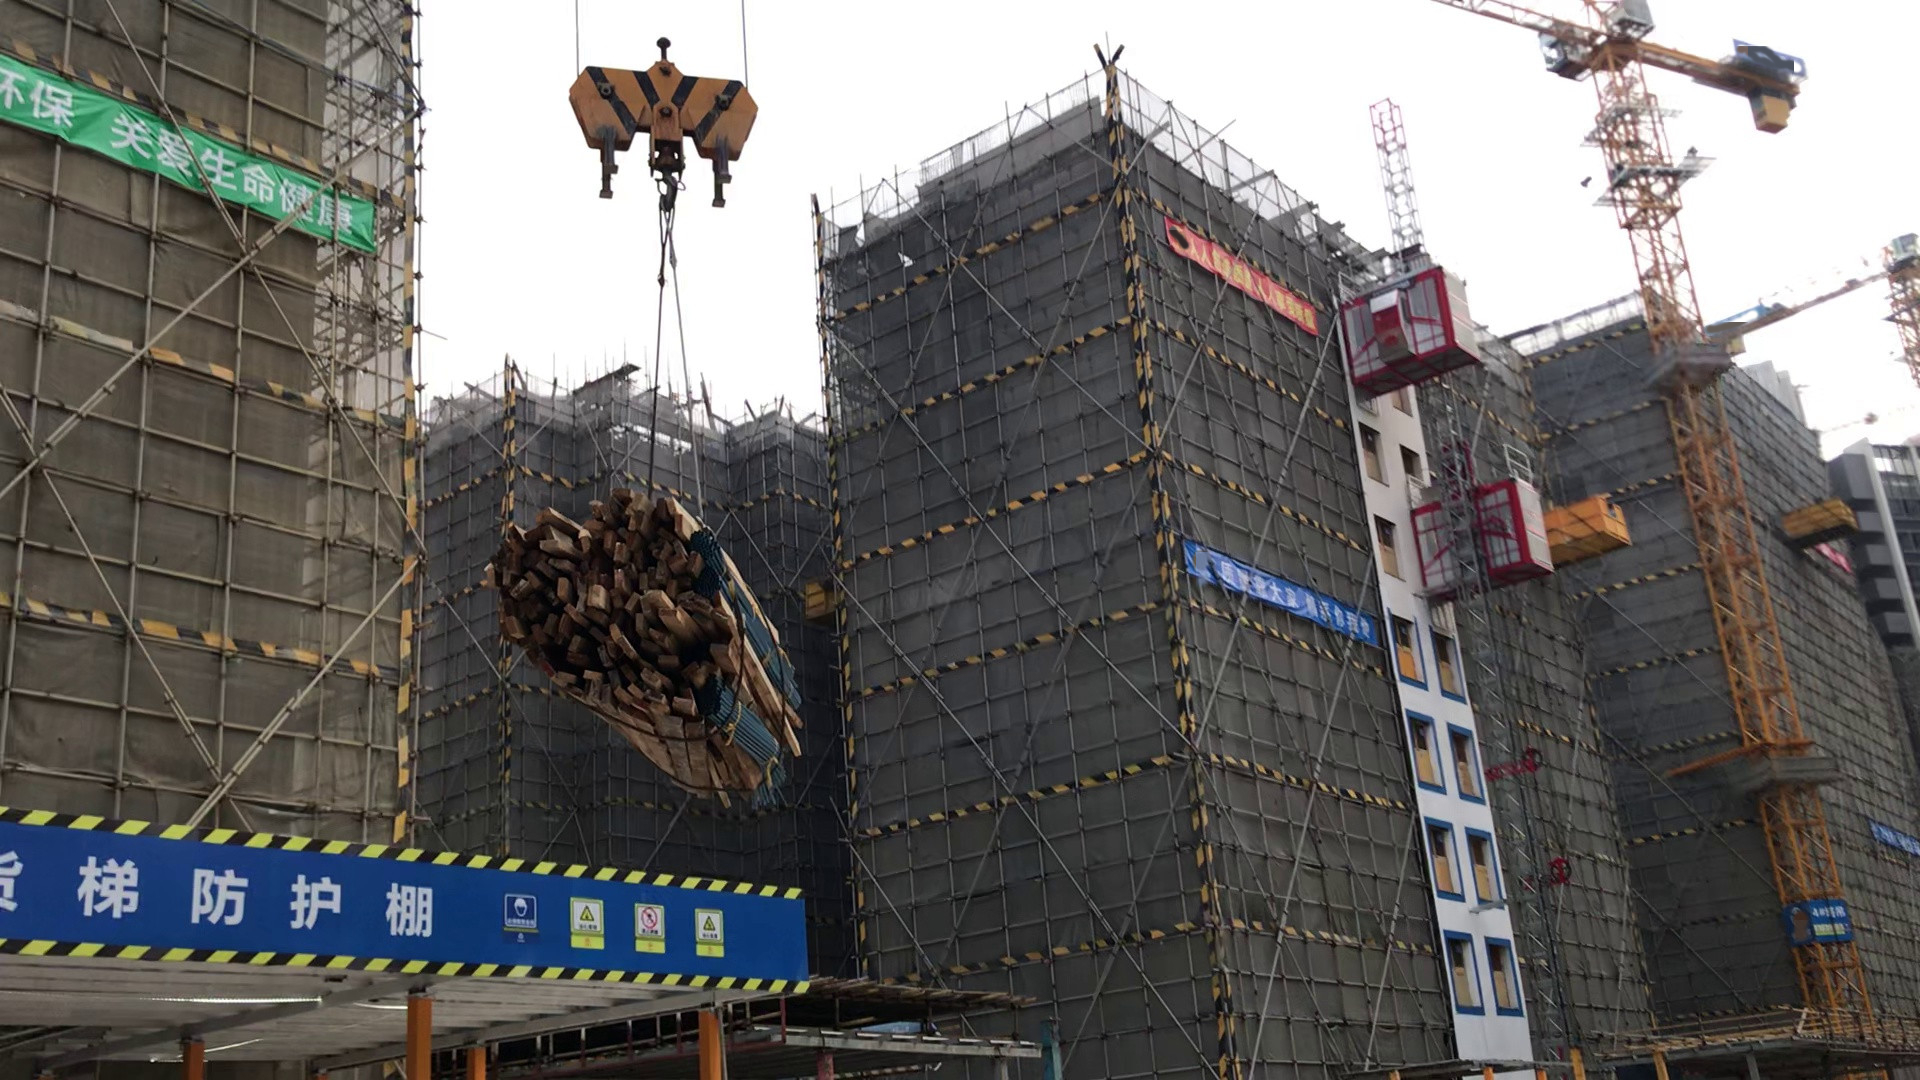hook: (512, 18, 758, 243)
slogan: (1, 793, 839, 1031), (3, 55, 400, 281), (1154, 531, 1375, 655), (1153, 211, 1323, 347), (1772, 882, 1873, 978), (1857, 804, 1920, 865), (1804, 531, 1857, 578)
wood: (488, 477, 843, 828)
